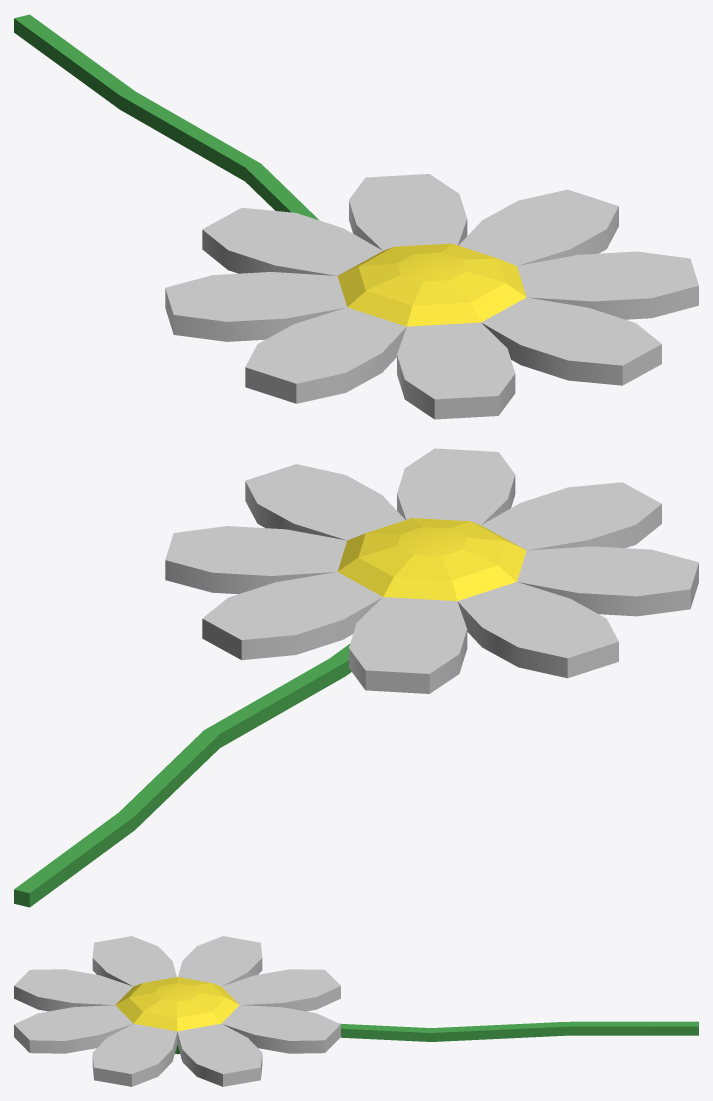
File: flower.glb
The picture shows the model from 3 angles, top to bottom: view 1: azimuth 30°, elevation 25°; view 2: azimuth 150°, elevation 25°; view 3: azimuth 270°, elevation 25°; orthographic projection. The views are drawn at different scales.
Visible parts, largest first — view 1: pCylinder25; view 2: pCylinder25; view 3: pCylinder25.
Part boxes in pixels (x1=…): pCylinder25: x1=14, y1=14, x2=698, y2=419; pCylinder25: x1=14, y1=448, x2=698, y2=907; pCylinder25: x1=14, y1=936, x2=698, y2=1086.
Bounding box in the file's own units: 126 × 19.56 × 265.
